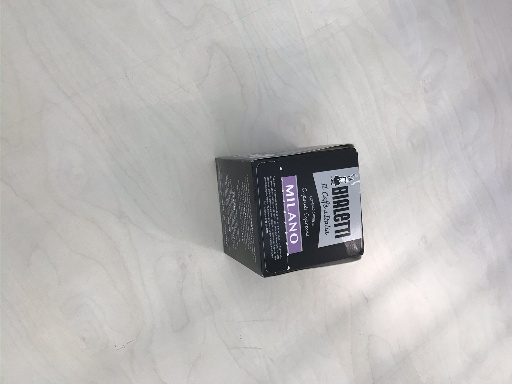Caffe: (215, 142, 367, 279)
